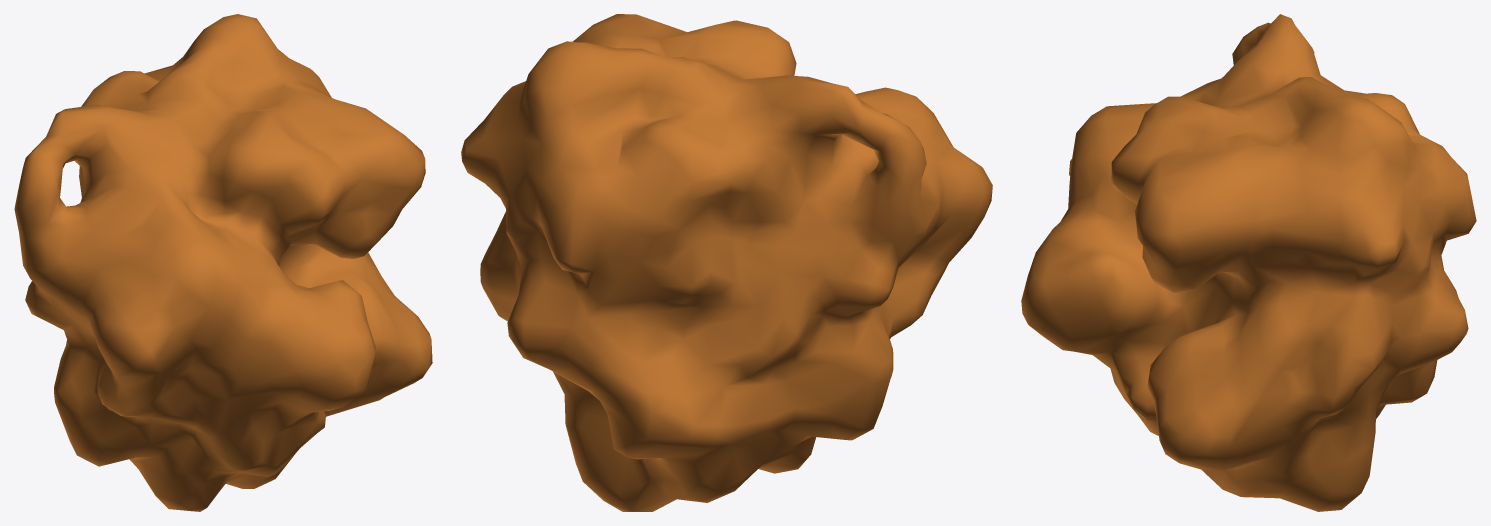
File: Ceruloplasmin_1.dae
3 views of the same model, side by side, from view 1: azimuth 30°, elevation 25°; view 2: azimuth 150°, elevation 25°; view 3: azimuth 270°, elevation 25° (orthographic). The views are drawn at different scales.
Visible parts, largest first — view 1: CoarseMS_1kcw; view 2: CoarseMS_1kcw; view 3: CoarseMS_1kcw.
Part boxes in pixels (<box>): CoarseMS_1kcw: <box>14,14,432,511</box>; CoarseMS_1kcw: <box>461,14,992,511</box>; CoarseMS_1kcw: <box>1021,14,1476,511</box>.
Size of the model in its own units: 77.83 by 83.53 by 80.94.
